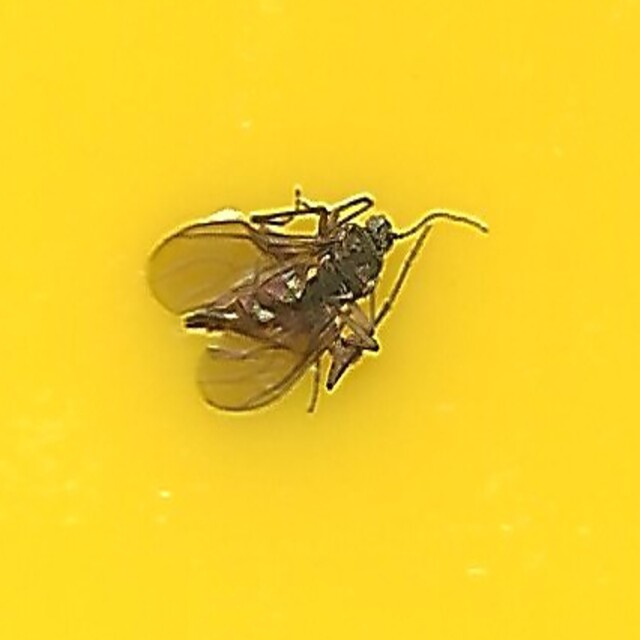Nematocera: (150, 198, 490, 442)
